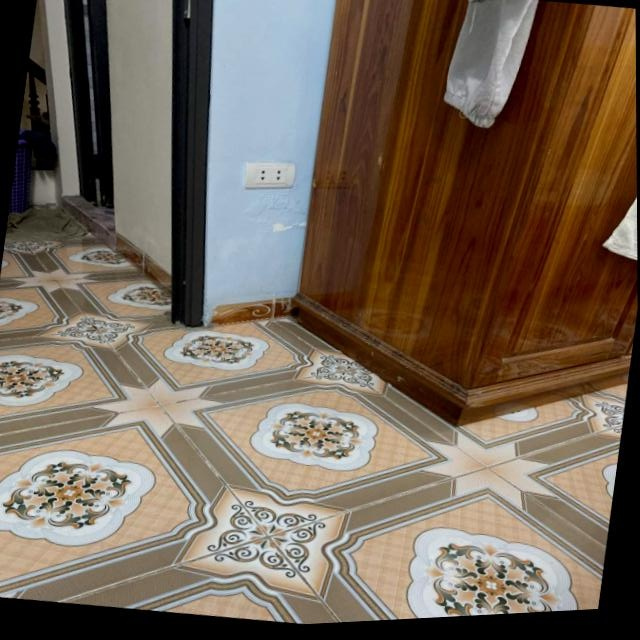outlet: (242, 156, 297, 196)
